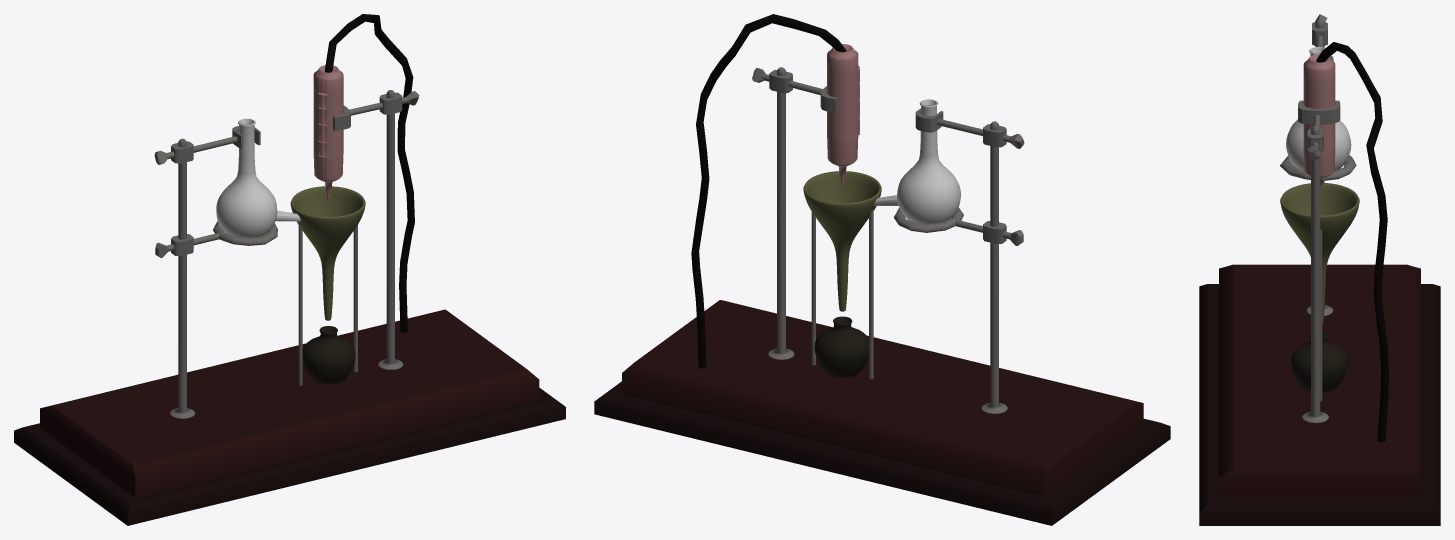
Rendered from Diluter.obj.
The picture shows the model from 3 angles, left to right: view 1: azimuth 30°, elevation 25°; view 2: azimuth 150°, elevation 25°; view 3: azimuth 270°, elevation 25°; orthographic projection. The views are drawn at different scales.
Parts seen in each view (by area): view 1: Combiner Base UpperBase, Combiner Base Base, Combiner RightStand Filter, Combiner LeftStand PotLeft, Combiner RightStand Dripper, Combiner RightStand Wire, Combiner Stand RightStand, Combiner Stand LeftStand, Catcher Combiner, Combiner RightStand FunnelStandL, Combiner RightStand FunnelStandR, Combiner LeftStand StandBot pCube6; view 2: Combiner Base UpperBase, Combiner Base Base, Combiner RightStand Filter, Combiner LeftStand PotLeft, Combiner RightStand Wire, Combiner RightStand Dripper, Combiner Stand RightStand, Catcher Combiner, Combiner Stand LeftStand, Combiner RightStand FunnelStandL, Combiner RightStand FunnelStandR, Combiner LeftStand StandBot pCube6; view 3: Combiner Base UpperBase, Combiner Base Base, Combiner RightStand Wire, Combiner RightStand Filter, Combiner Stand RightStand, Combiner RightStand Dripper, Catcher Combiner, Combiner LeftStand PotLeft, Combiner RightStand StandTop pCube5, Combiner LeftStand StandBot pCube6, Combiner RightStand FunnelStandR.
Boxes of the visible parts, bbox=[...] form: Combiner Base UpperBase: bbox=[40, 309, 539, 497]; Combiner Base Base: bbox=[14, 387, 565, 525]; Combiner RightStand Filter: bbox=[290, 186, 365, 320]; Combiner LeftStand PotLeft: bbox=[216, 118, 300, 237]; Combiner RightStand Dripper: bbox=[313, 65, 343, 199]; Combiner RightStand Wire: bbox=[325, 14, 414, 332]; Combiner Stand RightStand: bbox=[378, 90, 403, 369]; Combiner Stand LeftStand: bbox=[170, 138, 194, 418]; Catcher Combiner: bbox=[302, 326, 355, 384]; Combiner RightStand FunnelStandL: bbox=[298, 223, 302, 385]; Combiner RightStand FunnelStandR: bbox=[353, 225, 357, 372]; Combiner LeftStand StandBot pCube6: bbox=[213, 221, 277, 245]; Combiner Base UpperBase: bbox=[622, 300, 1143, 496]; Combiner Base Base: bbox=[594, 381, 1170, 525]; Combiner RightStand Filter: bbox=[803, 171, 881, 311]; Combiner LeftStand PotLeft: bbox=[874, 99, 960, 224]; Combiner RightStand Wire: bbox=[691, 14, 846, 368]; Combiner RightStand Dripper: bbox=[827, 44, 859, 185]; Combiner Stand RightStand: bbox=[768, 67, 794, 359]; Catcher Combiner: bbox=[814, 316, 868, 377]; Combiner Stand LeftStand: bbox=[981, 121, 1007, 413]; Combiner RightStand FunnelStandL: bbox=[869, 209, 873, 379]; Combiner RightStand FunnelStandR: bbox=[811, 212, 815, 365]; Combiner LeftStand StandBot pCube6: bbox=[894, 207, 963, 232]; Combiner Base UpperBase: bbox=[1219, 264, 1420, 498]; Combiner Base Base: bbox=[1199, 284, 1440, 525]; Combiner RightStand Wire: bbox=[1316, 42, 1388, 442]; Combiner RightStand Filter: bbox=[1280, 183, 1359, 324]; Combiner Stand RightStand: bbox=[1302, 126, 1328, 423]; Combiner RightStand Dripper: bbox=[1303, 54, 1335, 196]; Catcher Combiner: bbox=[1290, 331, 1347, 392]; Combiner LeftStand PotLeft: bbox=[1286, 46, 1351, 182]; Combiner RightStand StandTop pCube5: bbox=[1298, 100, 1340, 124]; Combiner LeftStand StandBot pCube6: bbox=[1280, 155, 1356, 180]; Combiner RightStand FunnelStandR: bbox=[1320, 229, 1322, 401].
Size of the model in its own units: 10.93 by 9.16 by 4.91.
